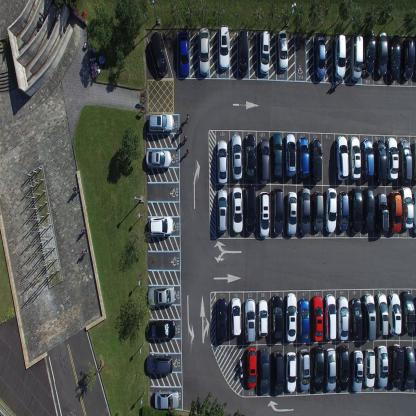car: (150, 30, 167, 76), (349, 34, 364, 82), (388, 343, 404, 388), (401, 289, 416, 334), (311, 345, 325, 393), (401, 37, 416, 81), (362, 293, 376, 340), (362, 186, 376, 232), (348, 135, 362, 180), (375, 190, 389, 235), (388, 291, 402, 336), (375, 291, 389, 336), (336, 345, 350, 390), (147, 319, 177, 340), (373, 138, 387, 182), (400, 186, 414, 230), (388, 189, 402, 233), (147, 284, 175, 306), (360, 139, 375, 180), (244, 132, 256, 182), (244, 184, 256, 234), (399, 138, 412, 184), (145, 148, 172, 170), (298, 186, 310, 235), (333, 34, 346, 79), (403, 345, 416, 390), (271, 349, 284, 394), (198, 26, 210, 74), (218, 22, 230, 70), (350, 186, 362, 234), (311, 294, 323, 342), (258, 347, 270, 395), (148, 214, 173, 237), (297, 135, 310, 179), (284, 132, 297, 176), (146, 353, 173, 374), (258, 137, 270, 184), (324, 186, 336, 233), (231, 186, 243, 233), (336, 134, 348, 180), (216, 138, 228, 184), (324, 293, 336, 339), (178, 28, 189, 78), (154, 388, 179, 410), (148, 112, 174, 133), (314, 35, 326, 80), (386, 136, 398, 181), (216, 188, 228, 233), (244, 298, 256, 343), (271, 131, 282, 180), (259, 190, 270, 239), (271, 294, 282, 343), (284, 351, 297, 392), (388, 36, 400, 80), (231, 132, 242, 180), (272, 187, 283, 235), (376, 344, 388, 388), (298, 347, 310, 391), (310, 138, 322, 181), (350, 297, 362, 340), (351, 350, 363, 393), (337, 295, 348, 341), (216, 296, 227, 342), (325, 346, 336, 392), (312, 190, 324, 232), (246, 347, 258, 389), (286, 292, 296, 342), (376, 31, 387, 76), (286, 190, 297, 235), (298, 298, 309, 343), (276, 30, 288, 71), (337, 190, 349, 231), (364, 30, 375, 74), (238, 28, 248, 76), (230, 297, 242, 337), (364, 348, 376, 388), (259, 29, 269, 74), (258, 299, 268, 338), (410, 143, 416, 181), (412, 190, 416, 236)
